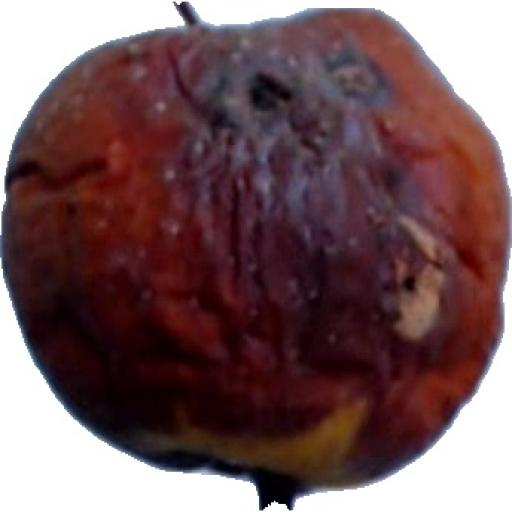apple-overripe: (0, 0, 512, 459)
